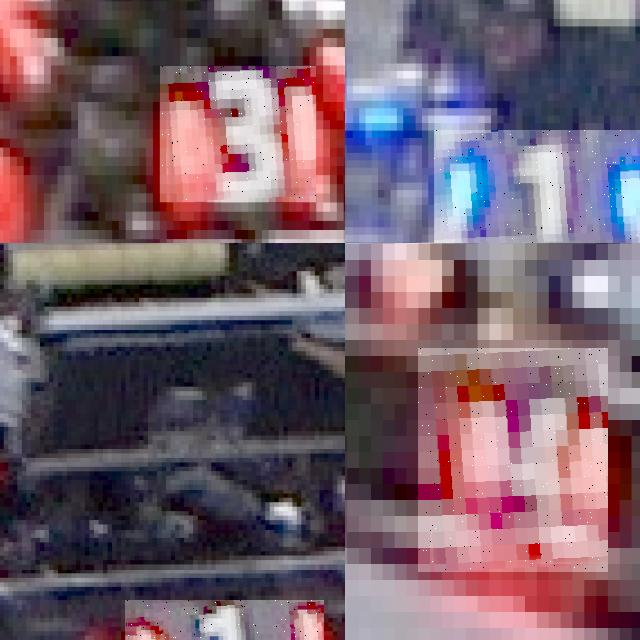B1: (434, 130, 640, 243)
R1: (125, 600, 323, 640)
R3: (160, 66, 316, 202)
R4: (418, 348, 608, 572)
